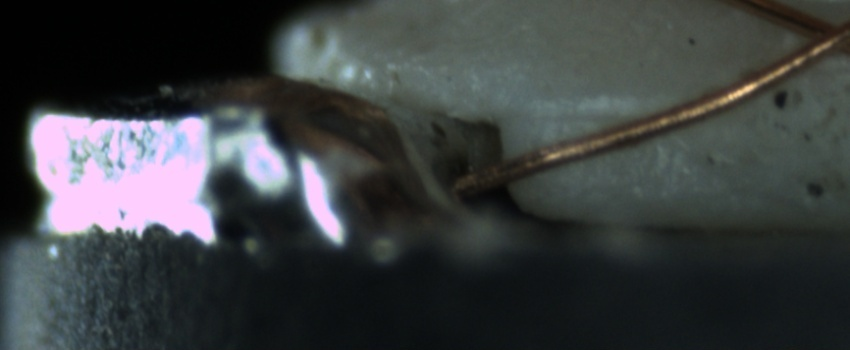CL: (778, 2, 849, 69)
DL: (525, 82, 662, 143)
